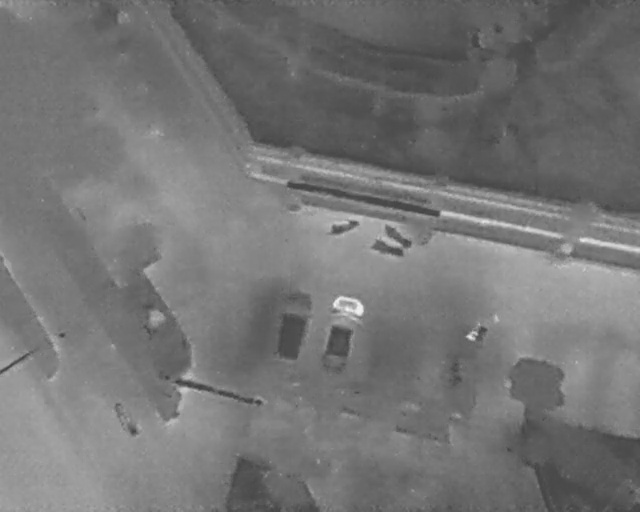Bicycle: (377, 216, 417, 253), (368, 235, 407, 261), (325, 215, 363, 239)
Car: (316, 292, 369, 376), (269, 285, 317, 366)
Person: (462, 326, 481, 346)
